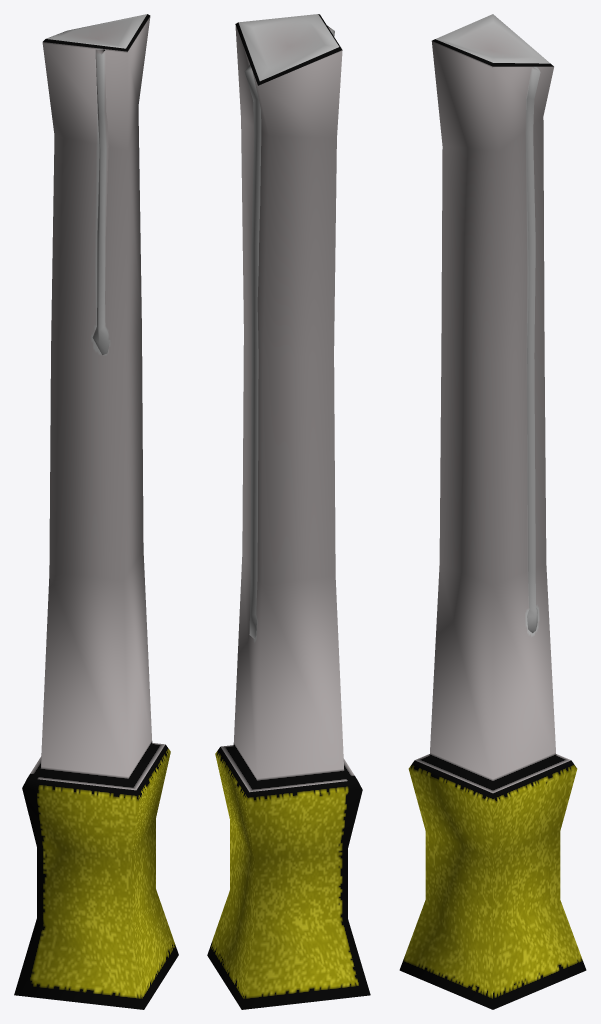
The model's file is candle.fbx.
3 renders of one model, left to right at view 1: azimuth 30°, elevation 25°; view 2: azimuth 150°, elevation 25°; view 3: azimuth 270°, elevation 25°, orthographic.
Visible parts, largest first — view 1: candle; view 2: candle; view 3: candle.
Boxes of the visible parts, x1,y1,x2,y2 form: candle: (14,14,178,1009); candle: (207,14,370,1009); candle: (399,14,586,1009).
Bounding box in the file's own units: 8.09 × 44.47 × 8.09.
